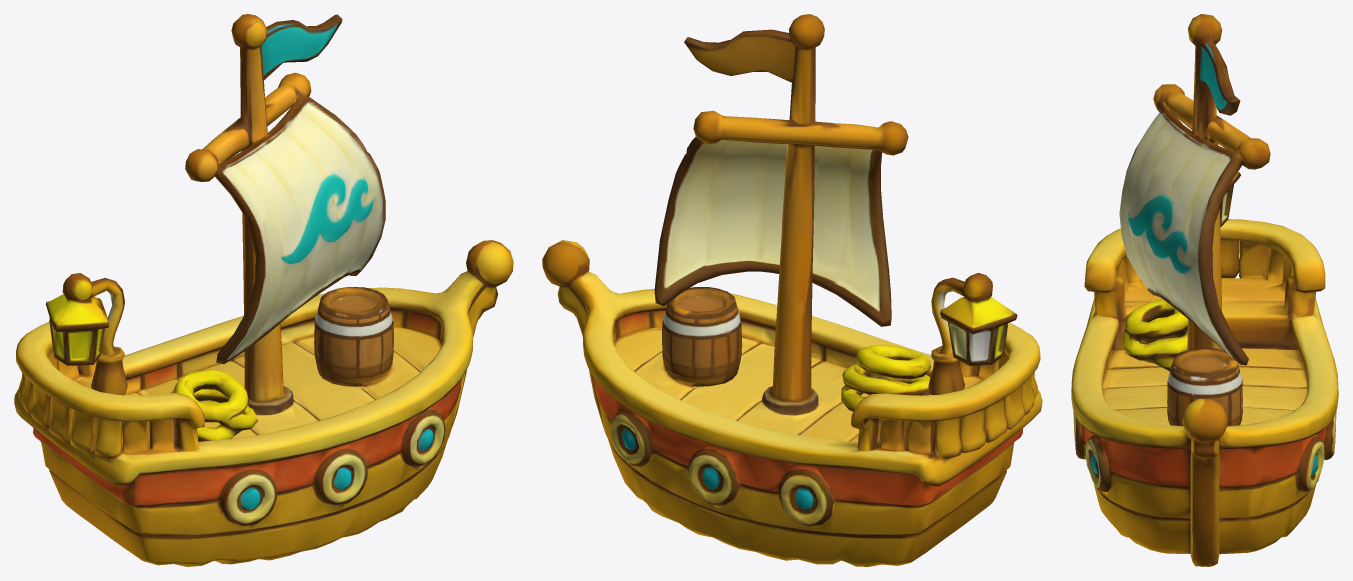
File: tau.glb
3 views of the same model, side by side, from view 1: azimuth 30°, elevation 25°; view 2: azimuth 150°, elevation 25°; view 3: azimuth 270°, elevation 25° (orthographic). The views are drawn at different scales.
Parts seen in each view (by area): view 1: tripo_node_b68ea856-30a9-438b-adfc-4615c3db71f9; view 2: tripo_node_b68ea856-30a9-438b-adfc-4615c3db71f9; view 3: tripo_node_b68ea856-30a9-438b-adfc-4615c3db71f9.
Part boxes in pixels (x1=…): tripo_node_b68ea856-30a9-438b-adfc-4615c3db71f9: x1=14, y1=14, x2=513, y2=566; tripo_node_b68ea856-30a9-438b-adfc-4615c3db71f9: x1=542, y1=14, x2=1042, y2=566; tripo_node_b68ea856-30a9-438b-adfc-4615c3db71f9: x1=1071, y1=14, x2=1338, y2=566.
Size of the model in its own units: 0.9564 by 0.9798 by 0.4927.
1 material, 1 textured.
